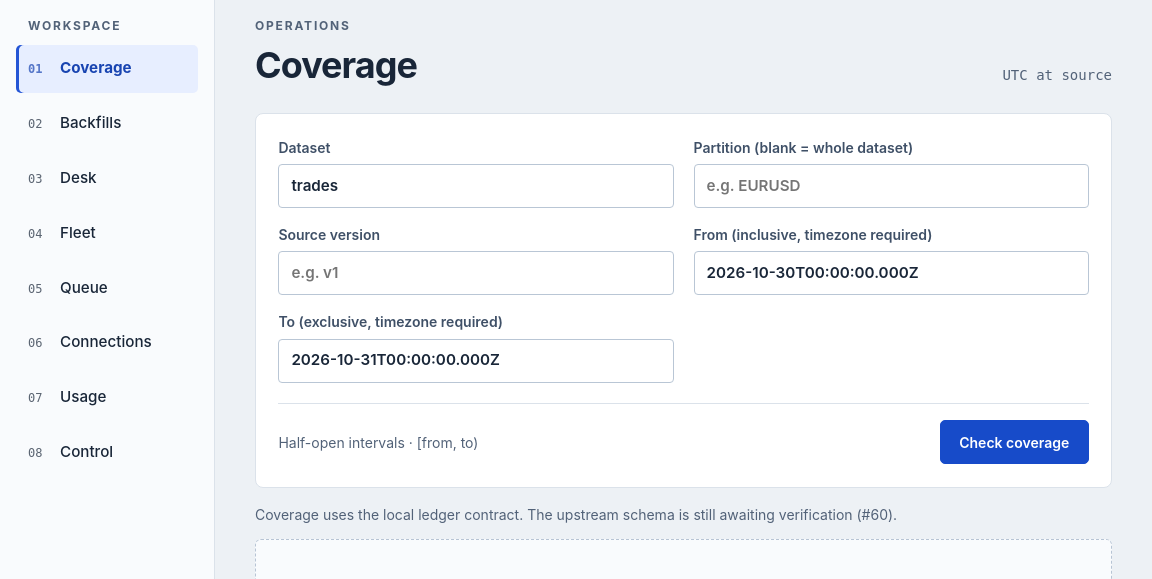
Test: surfaces a refusal from the server instead of failing silently
This screenshot has width=1152, height=579.
Click the button "08 Control". click: (107, 452)
box: top-left (16, 428), bottom-right (198, 476)
(page scrolled)
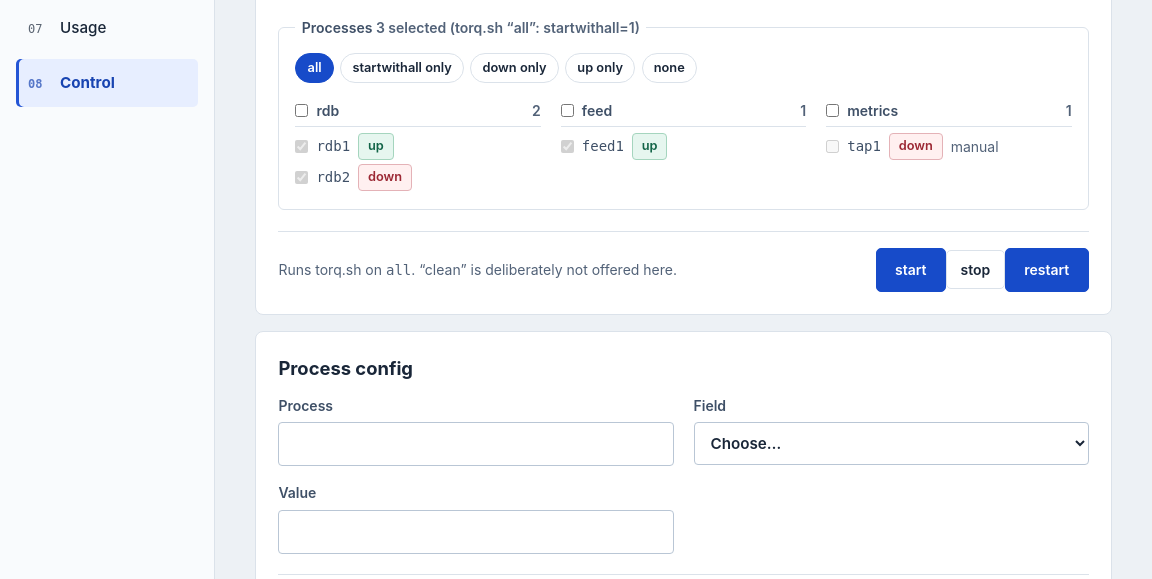
Click the button "start". click: (911, 270)
box: top-left (876, 248), bottom-right (946, 292)
(page scrolled)
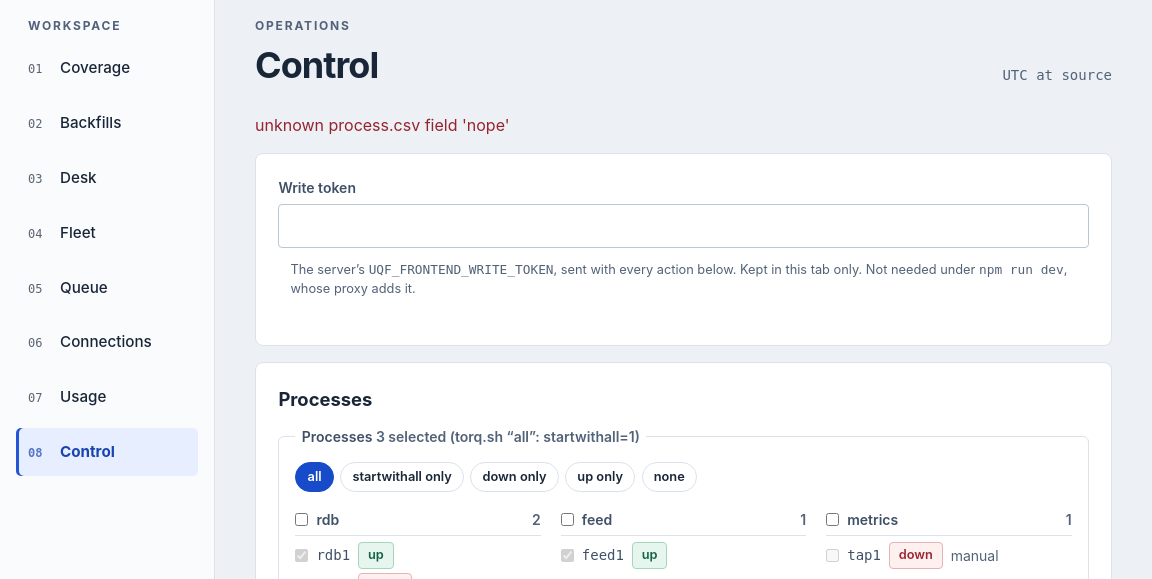
expect the message "unknown process.csv field 'nope'" is shown: met, box top-left (255, 115), bottom-right (510, 135)
